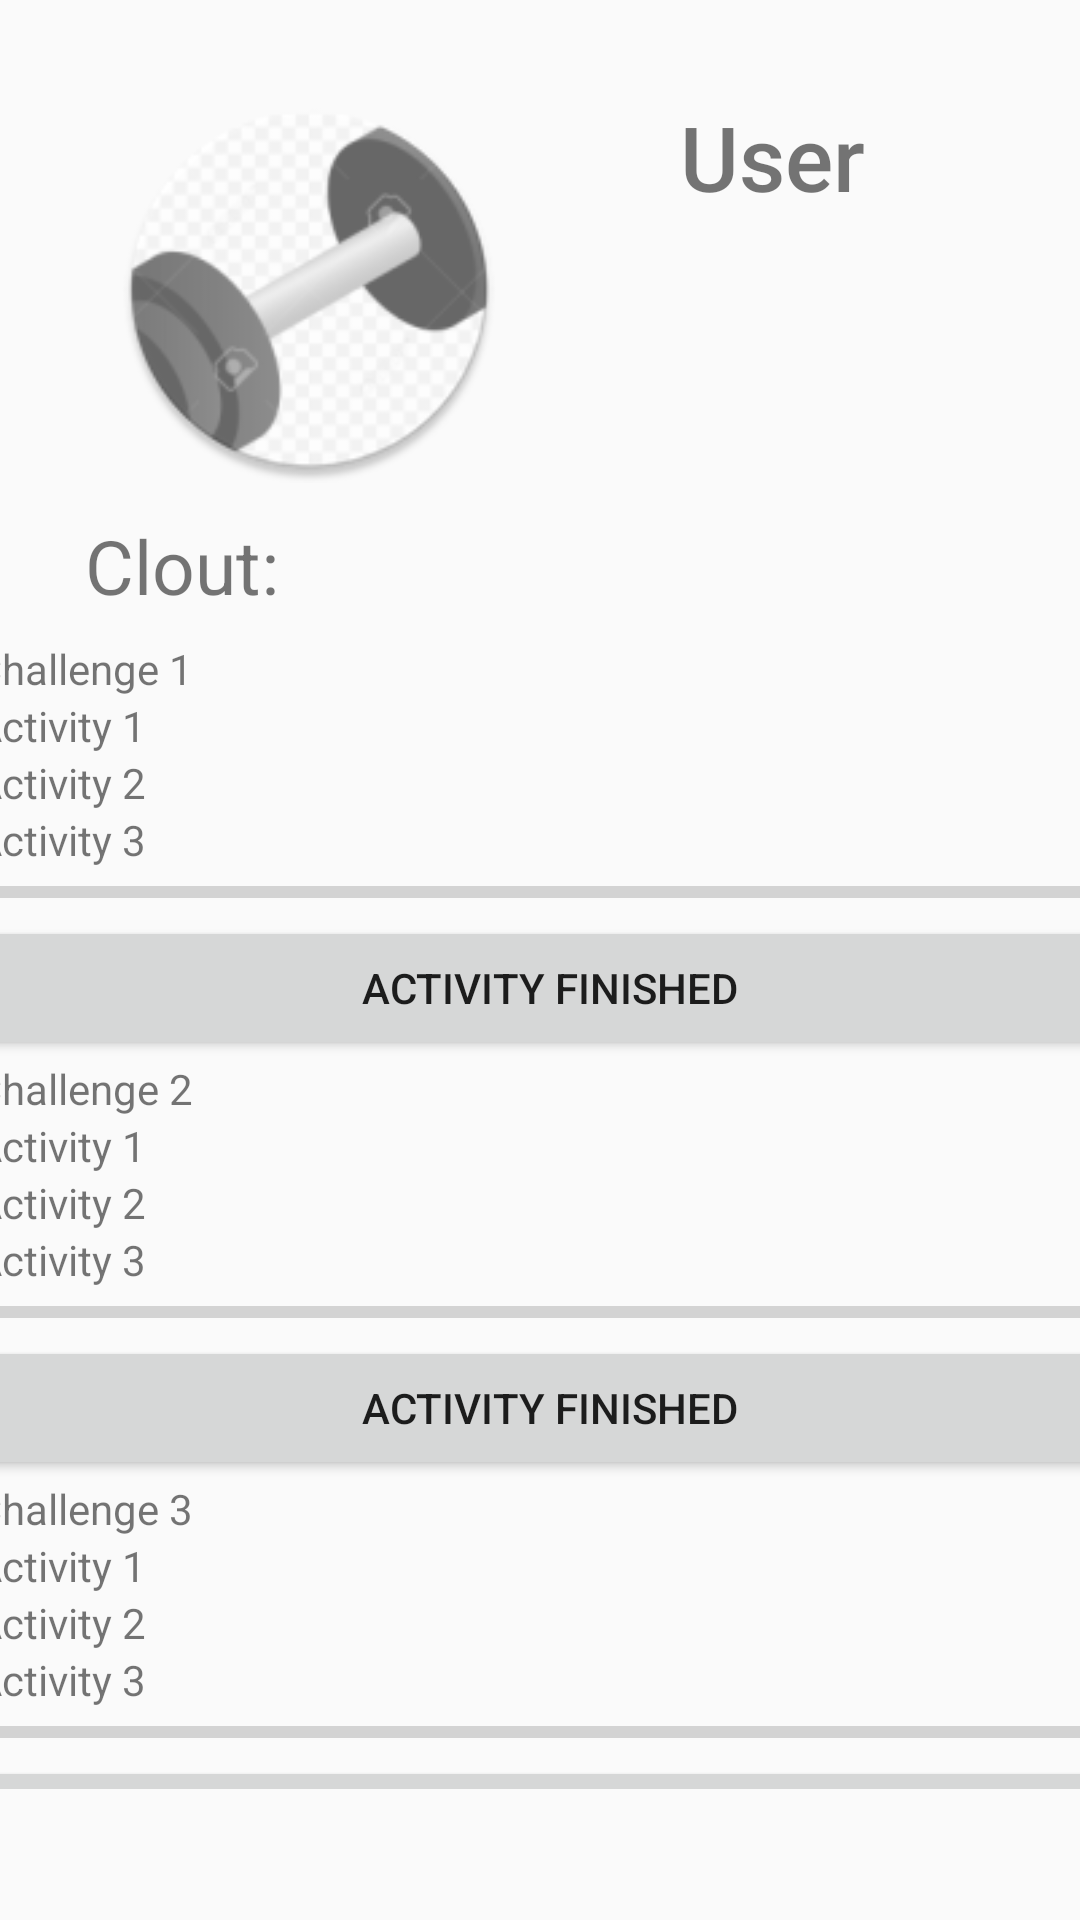

Named icons in this screenshot (1080×1920) and their bounding boxes, [x1, y1, x2, y2]:
dumbbell round: [129, 126, 489, 476]
